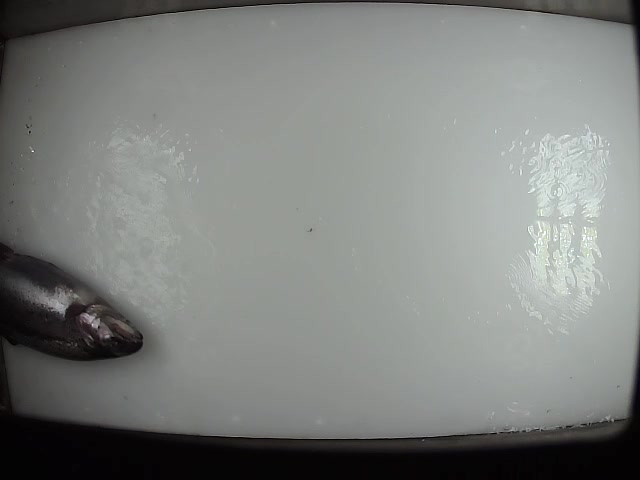fish: (1, 242, 145, 363)
